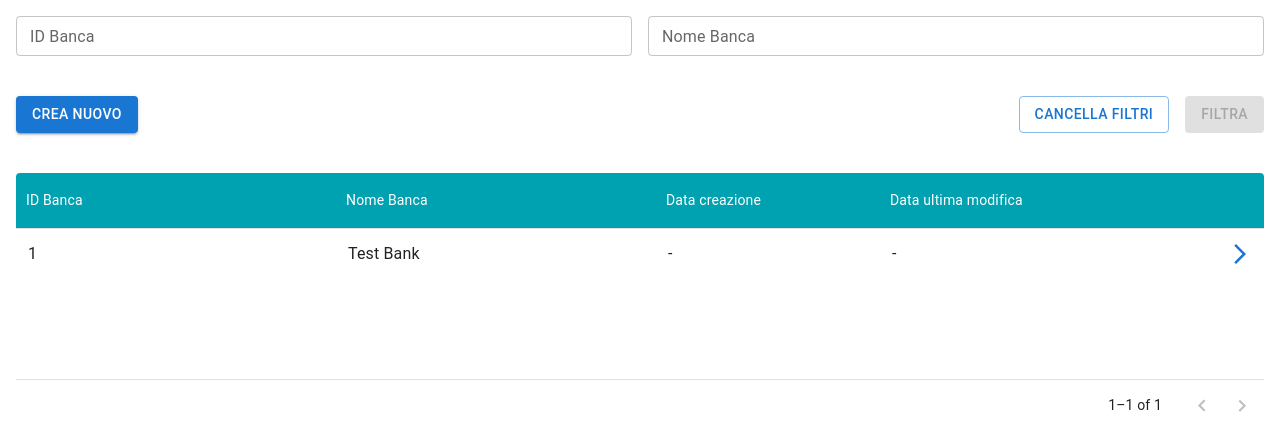
Scenario: BankDataGrid test › BankDataGrid can apply filters and fetch filtered data
The width and height of the screenshot is (1280, 429).
Step 1. Type "1" into the field with test id "bank-acquirerId-test" → (324, 36), box [16, 16, 632, 56]
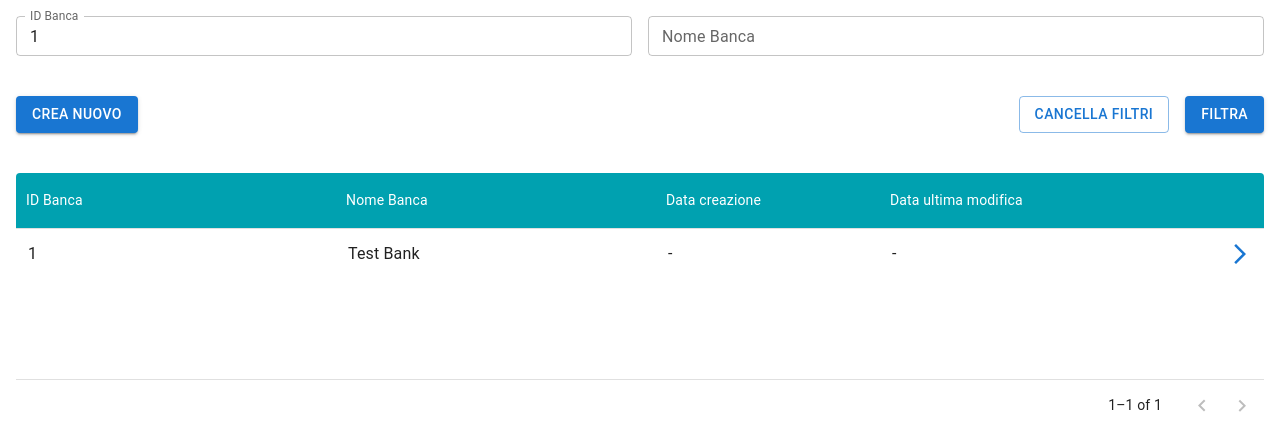
Step 2. Click the button "Filtra" → (1225, 114), box [1185, 96, 1264, 132]
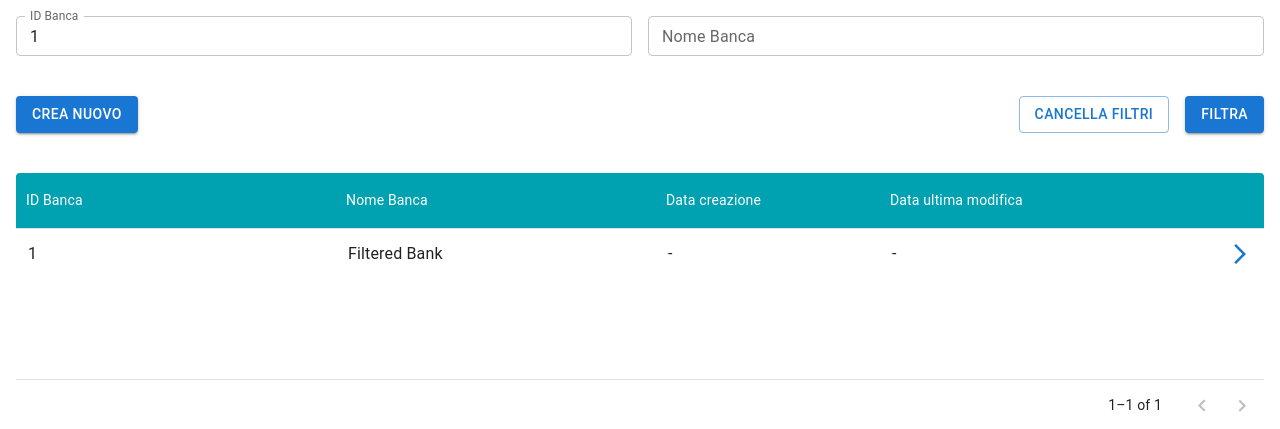
Result: the text "Filtered Bank" is shown at [348, 244, 443, 262]
